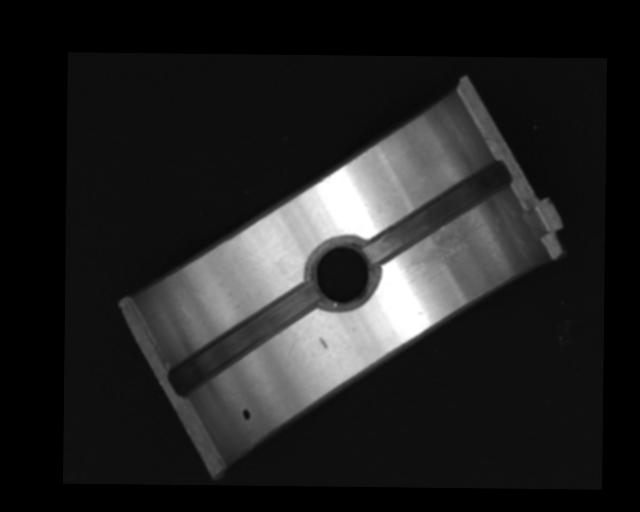blot: (242, 407, 250, 420)
bruise: (318, 336, 329, 349)
gap: (174, 281, 314, 395), (366, 156, 508, 264)
hole: (306, 236, 377, 311)
scratch: (402, 212, 484, 273)
